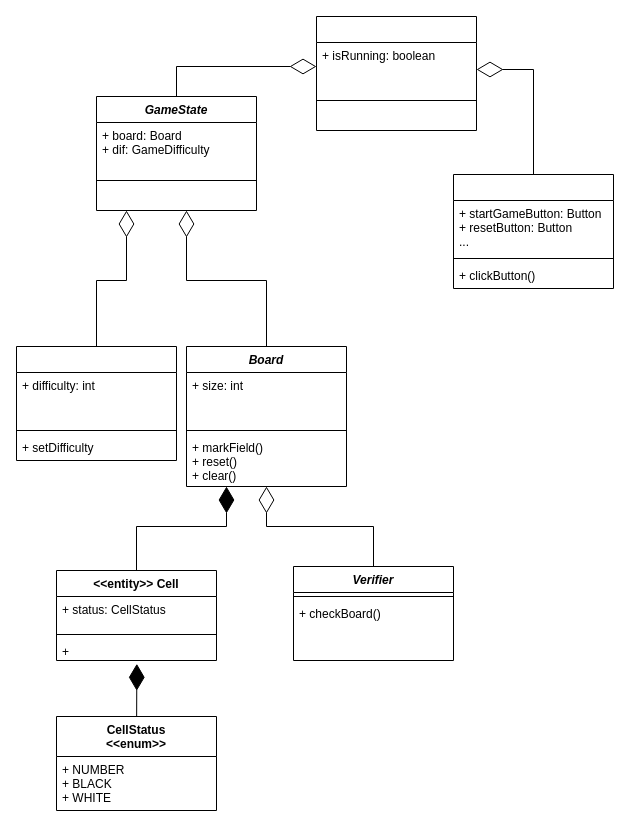
This 630x827 diagram has some shape labels left out. Here are the shapes that lost their labels. From the top down, the box of each, then its label:
(316, 16, 476, 130): Main
(452, 174, 614, 288): GUI
(16, 346, 176, 460): GameDifficulty
